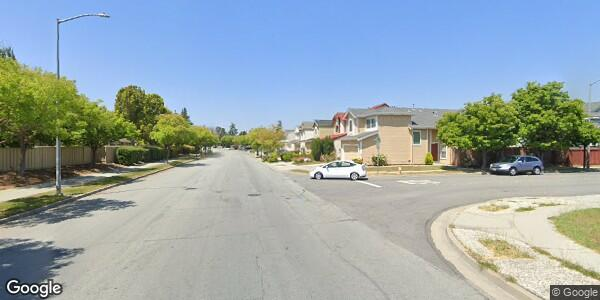Steel_Pole: (52, 10, 114, 197)
